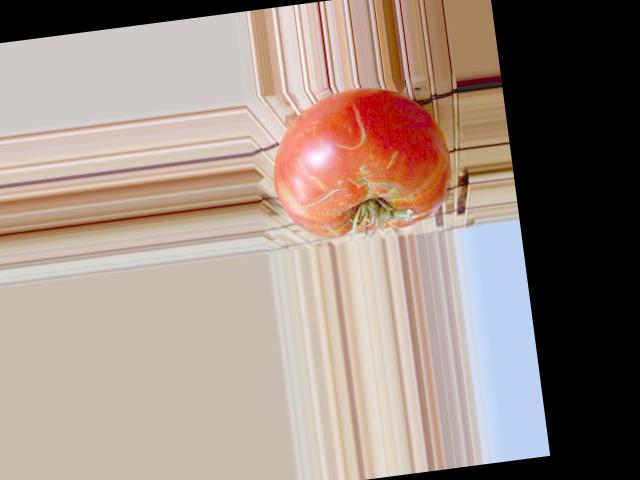tomato: (264, 80, 458, 244)
